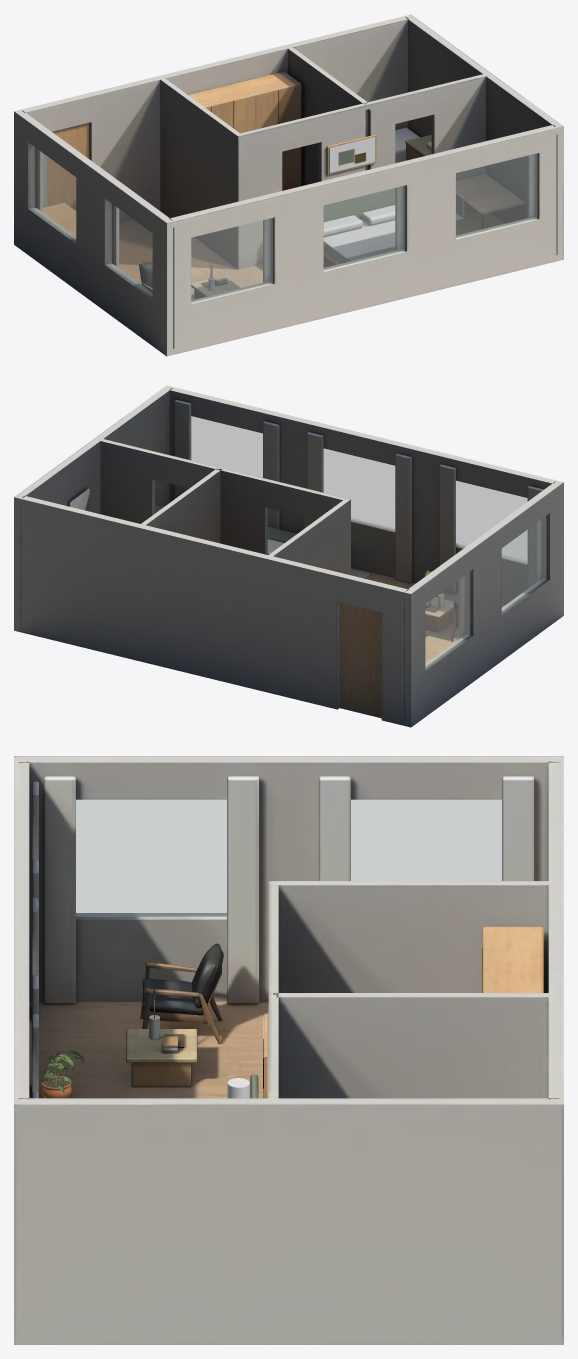
The model's file is deluxe-izq.glb.
3 views of the same model, one above another, from view 1: azimuth 30°, elevation 25°; view 2: azimuth 150°, elevation 25°; view 3: azimuth 270°, elevation 25° (orthographic). The views are drawn at different scales.
Visible parts, largest first — view 1: horneado, Mesh_6; view 2: horneado, Mesh_6; view 3: horneado, Mesh_6, potted_plant_02_pot.
Boxes of the visible parts, box(x1,y1,x2,y2) form: horneado: box(14, 14, 563, 356); Mesh_6: box(31, 145, 537, 302); horneado: box(14, 385, 563, 727); Mesh_6: box(191, 416, 546, 667); horneado: box(14, 756, 563, 1344); Mesh_6: box(76, 800, 501, 916); potted_plant_02_pot: box(41, 1050, 83, 1098).
Bounding box in the file's own units: 8.1 × 2.6 × 5.4.
4 materials, 3 textured.
